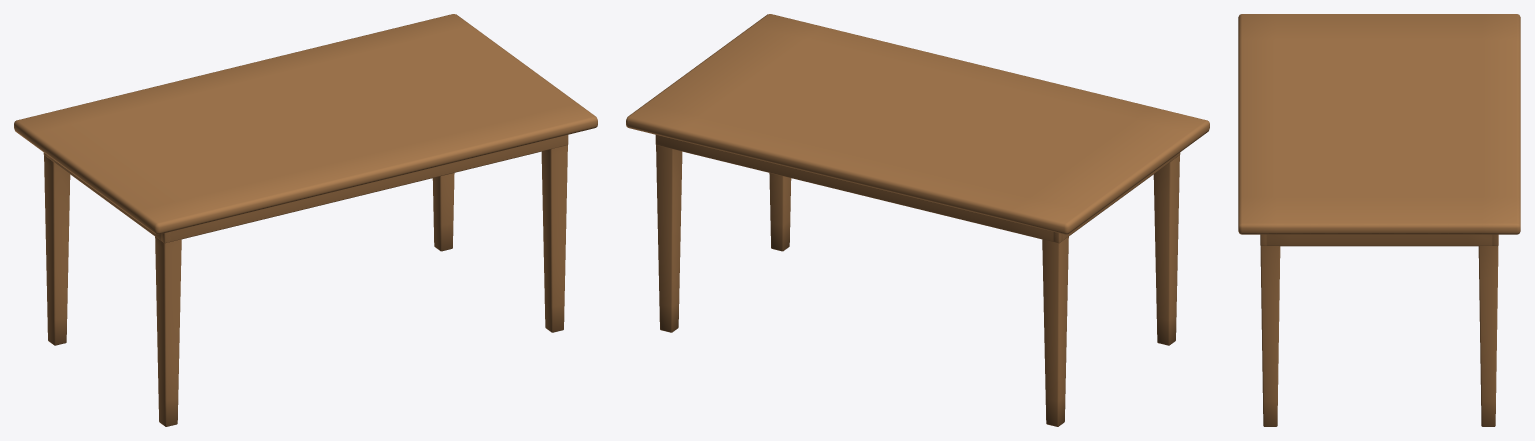
File: table.glb
The picture shows the model from 3 angles, left to right: view 1: azimuth 30°, elevation 25°; view 2: azimuth 150°, elevation 25°; view 3: azimuth 270°, elevation 25°; orthographic projection.
Parts seen in each view (by area): view 1: corps; view 2: corps; view 3: corps.
Part boxes in pixels (x1,y1,x2,y2): corps: (14,14,597,426); corps: (626,14,1209,426); corps: (1238,14,1520,426).
Size of the model in its own units: 1.6 by 0.75 by 0.9.
